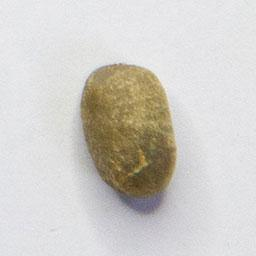peaberry: (76, 58, 181, 203)
